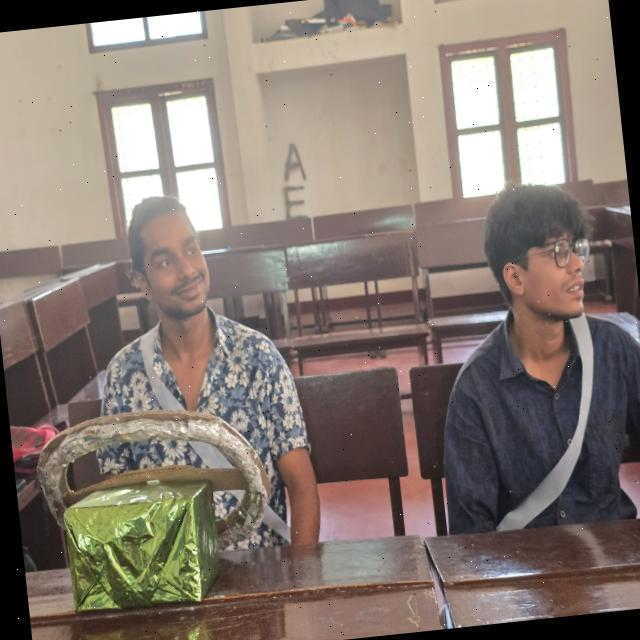seatbelt: (92, 310, 324, 572), (425, 301, 640, 548)
